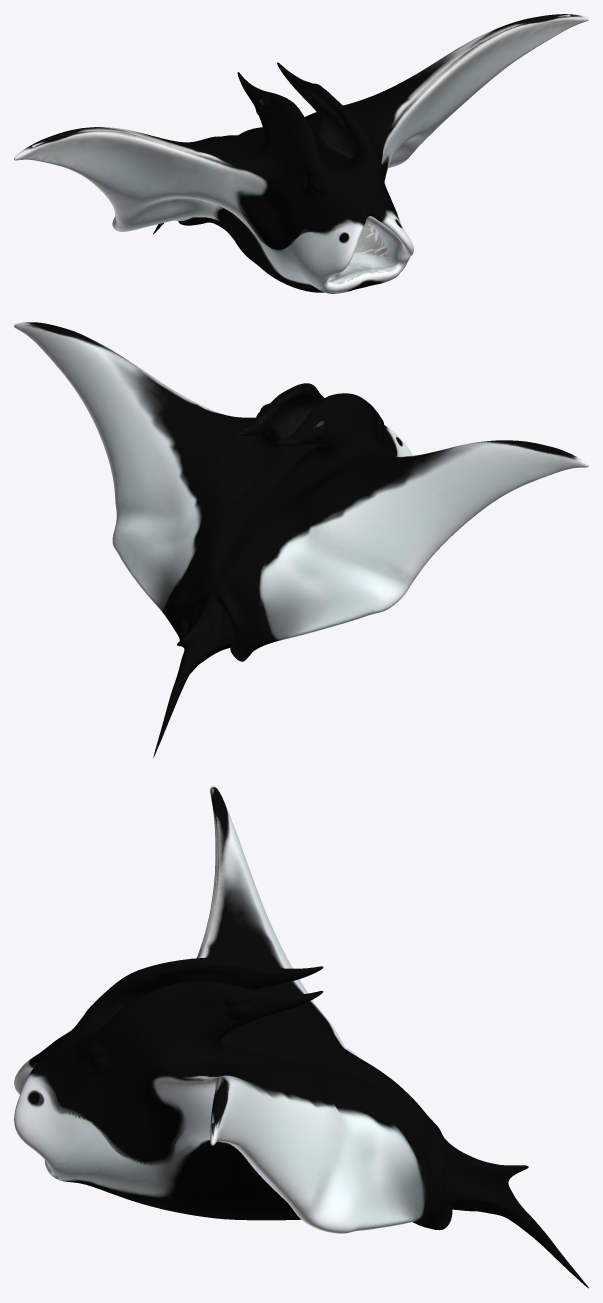
Rendered from manta-ray.glb.
3 renders of one model, top to bottom at view 1: azimuth 30°, elevation 25°; view 2: azimuth 150°, elevation 25°; view 3: azimuth 270°, elevation 25°, orthographic. The views are drawn at different scales.
Bounding box in the file's own units: 1.9 × 0.8374 × 1.29.
1 material, 1 textured.
